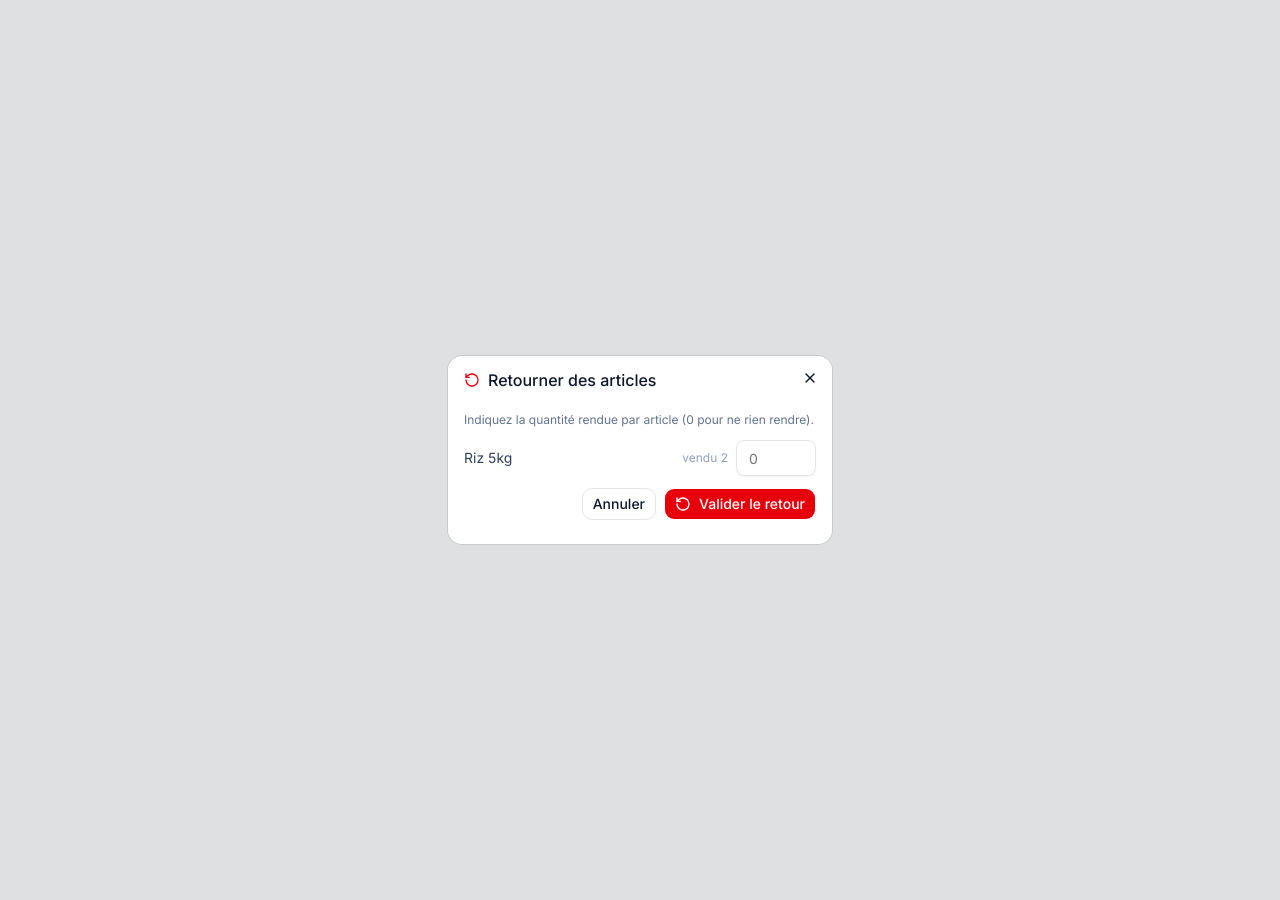
Test: ReturnSaleModal › envoie le retour via la RPC et affiche le montant rendu
Type "1" into the field named "Quantité retournée Riz 5kg" at (776, 458), box 736,440 -> 816,476
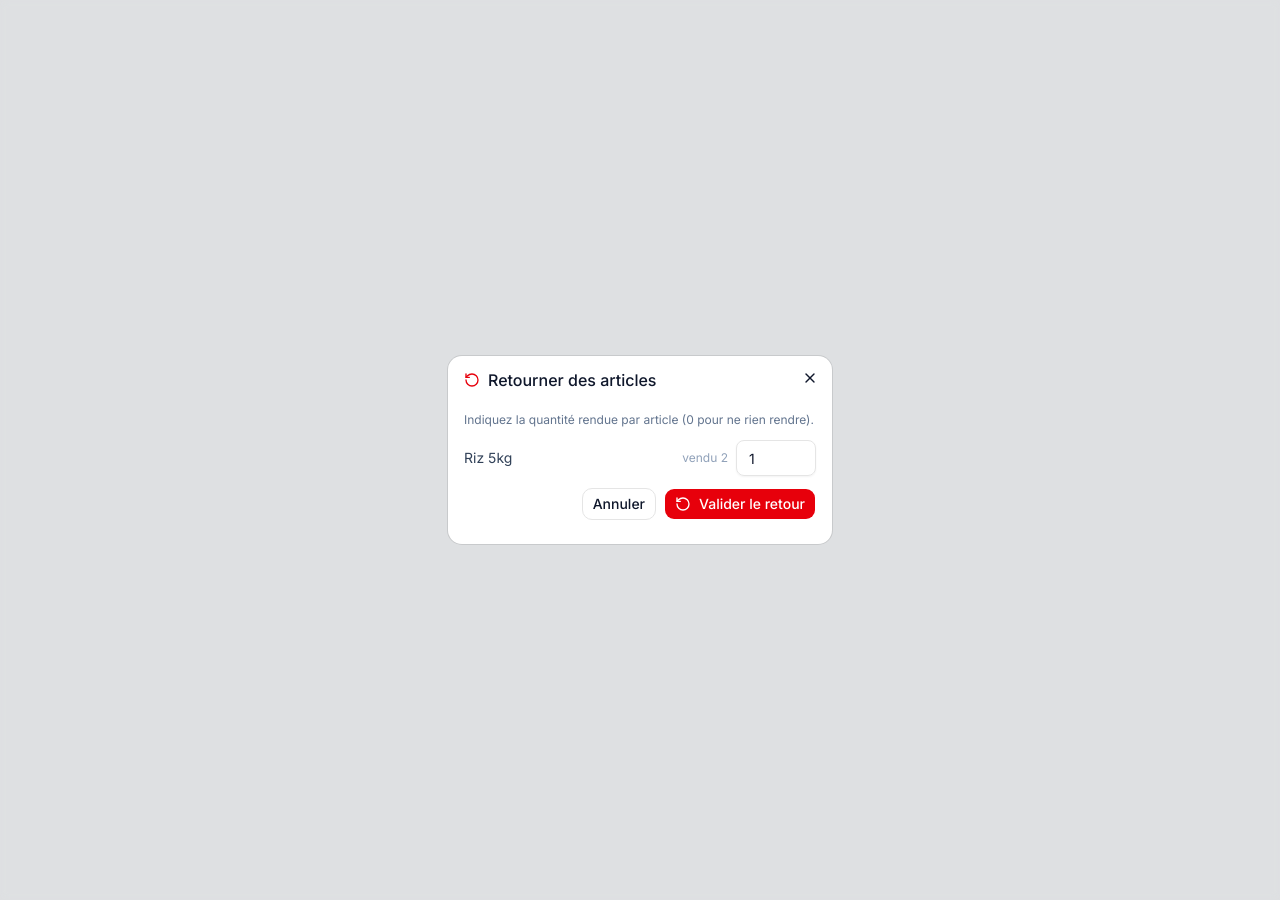
Click the button "Valider le retour" at (740, 504), box 664,488 -> 816,520
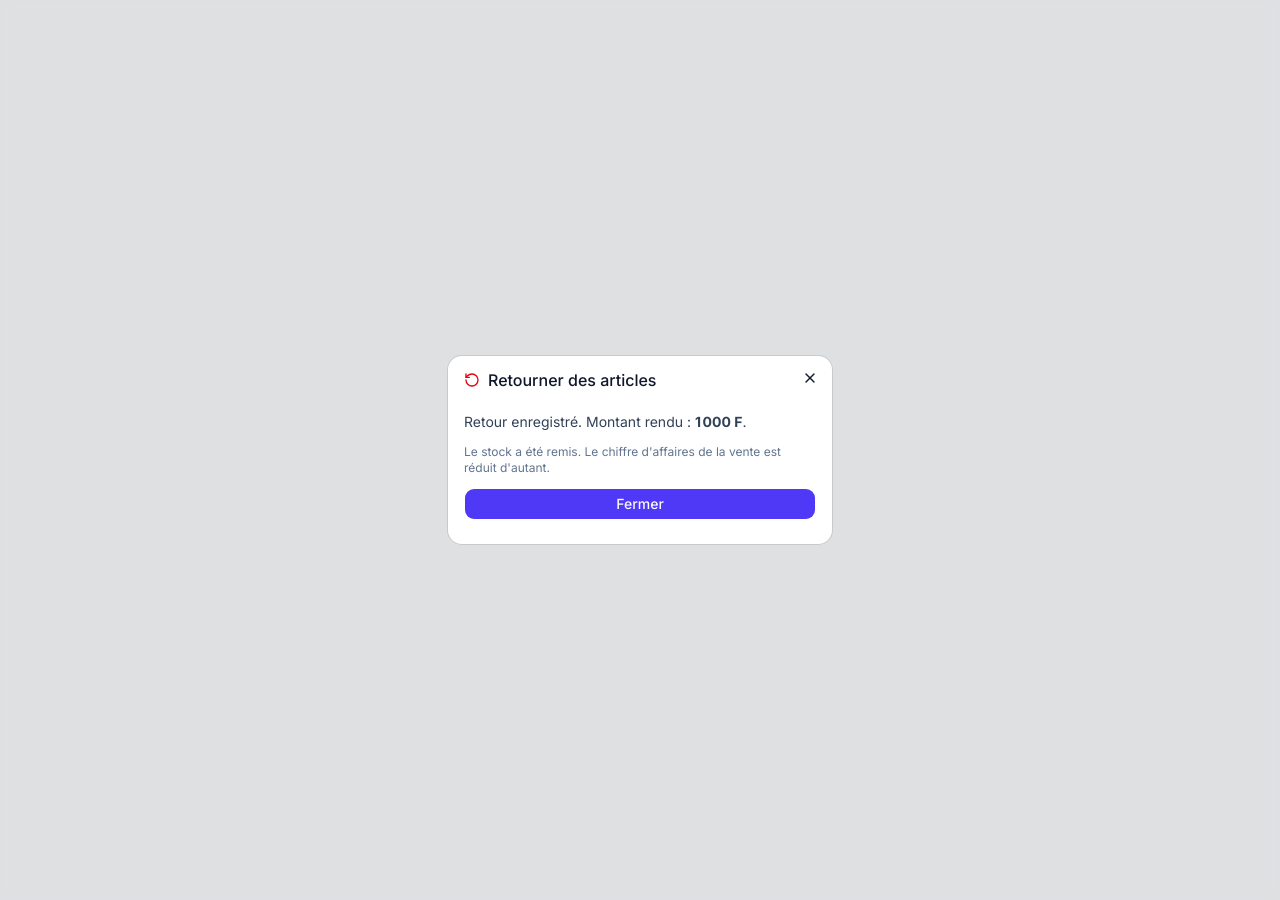
Expected: the text "Retour enregistré. Montant rendu : 1 000 F." is shown, 464,413 -> 746,430
